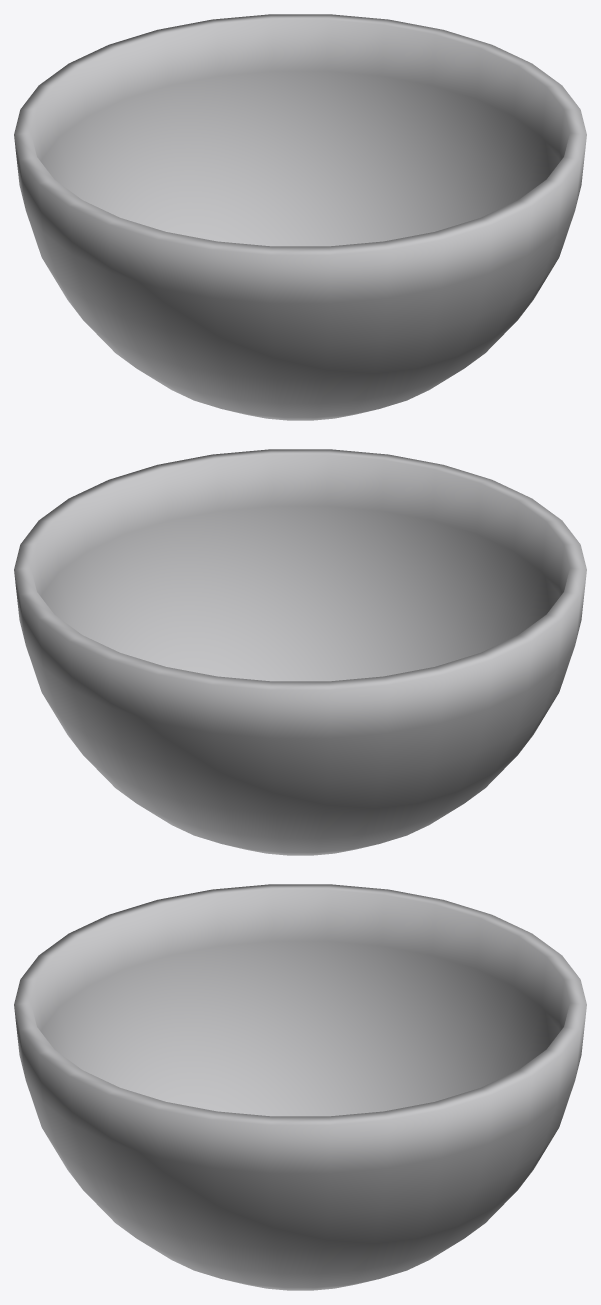
Rendered from _owl_2.fbx.
3 views of the same model, one above another, from view 1: azimuth 30°, elevation 25°; view 2: azimuth 150°, elevation 25°; view 3: azimuth 270°, elevation 25° (orthographic).
Parts seen in each view (by area): view 1: Sphere.009; view 2: Sphere.009; view 3: Sphere.009.
Part boxes in pixels (x1,y1,x2,y2): Sphere.009: (14,14,586,420); Sphere.009: (14,449,586,855); Sphere.009: (14,884,586,1290).
Size of the model in its own units: 31.58 by 14.76 by 31.75.
